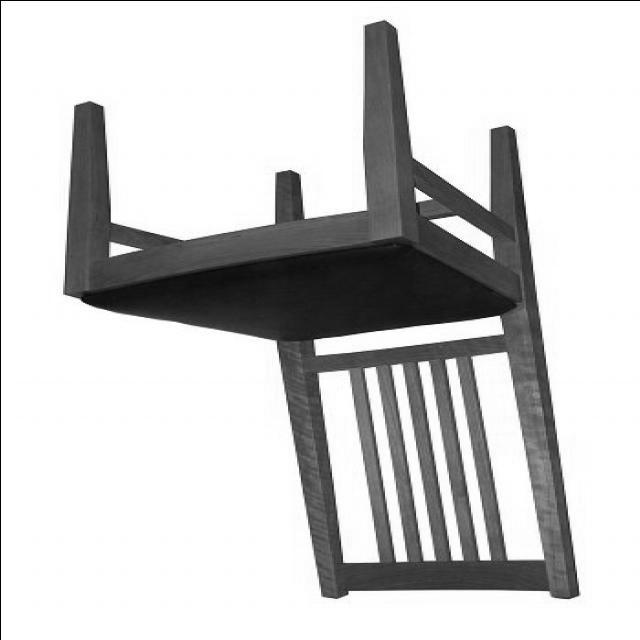chair: (61, 21, 579, 600)
